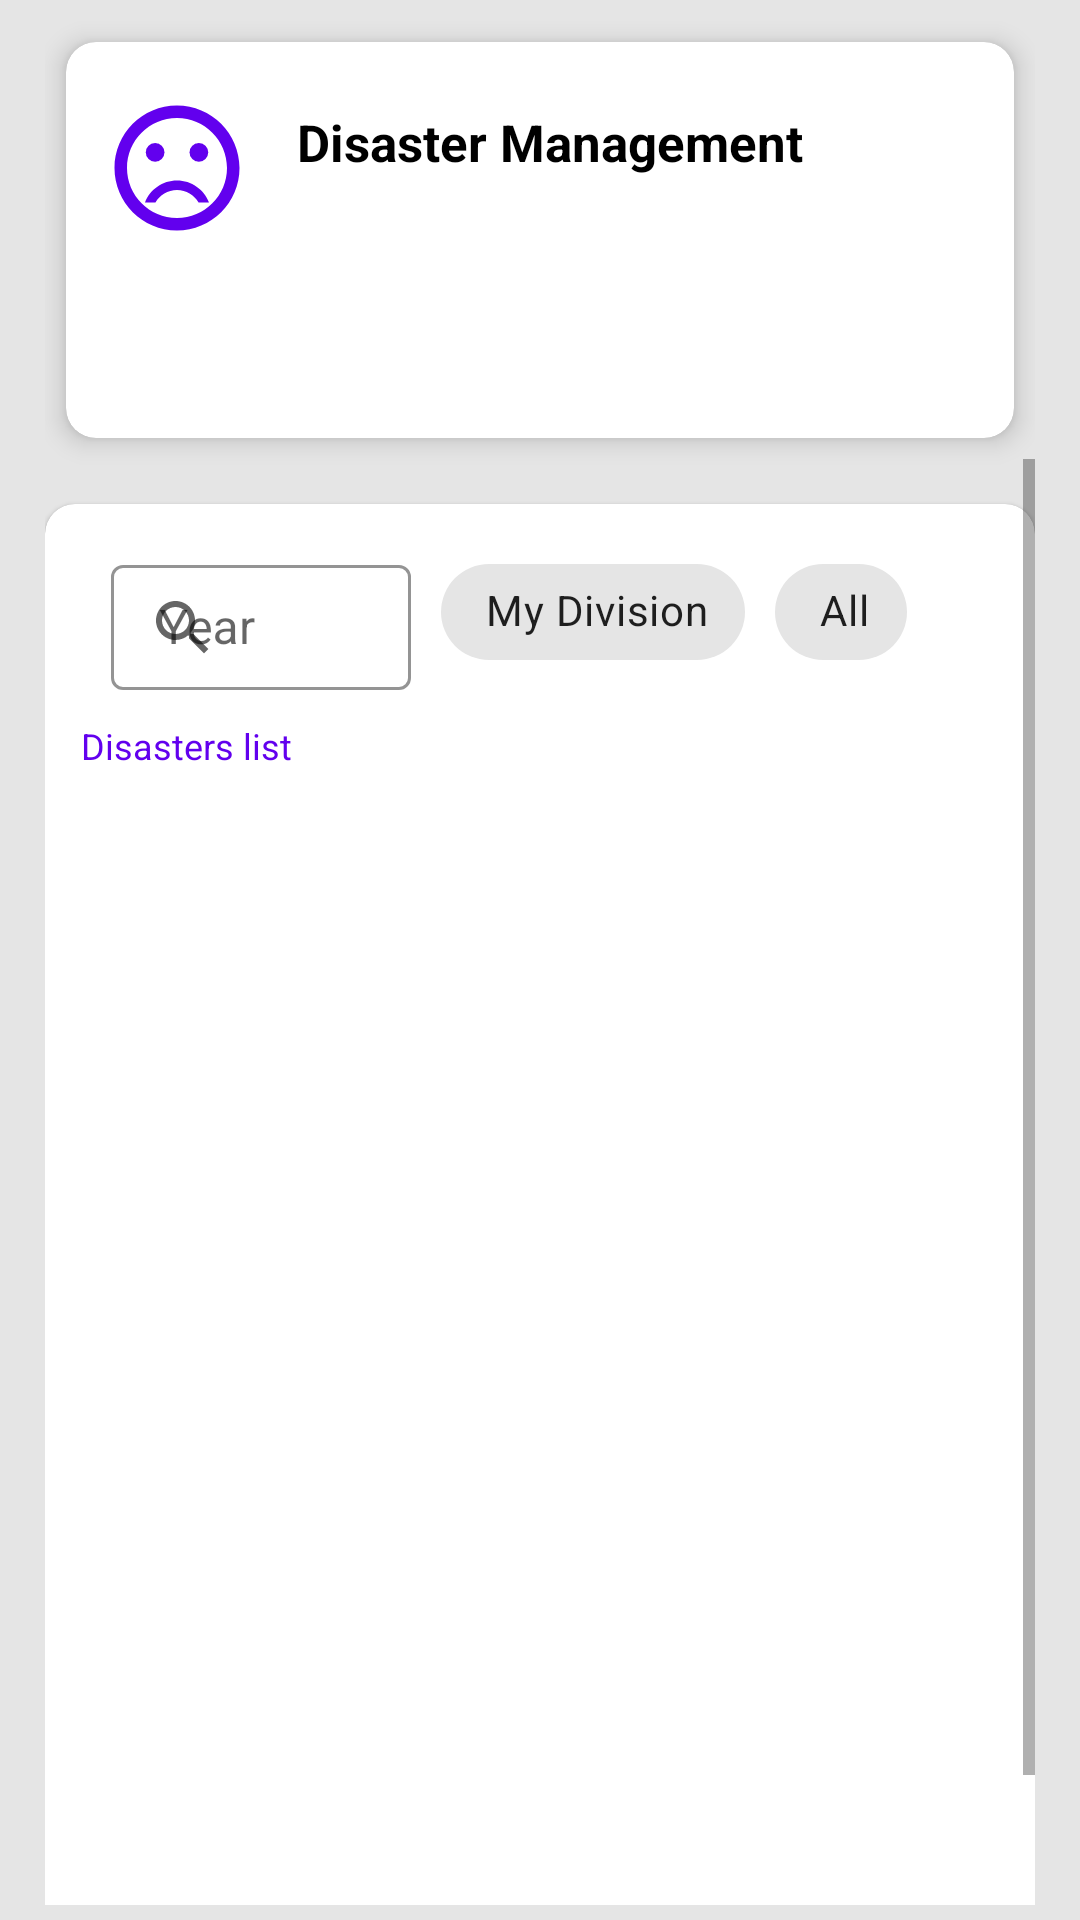

Where icons sit on this 1080px x 1920px app screen, as (x1, y1, x2, y2):
sentiment very dissatisfied: (114, 105, 240, 231)
